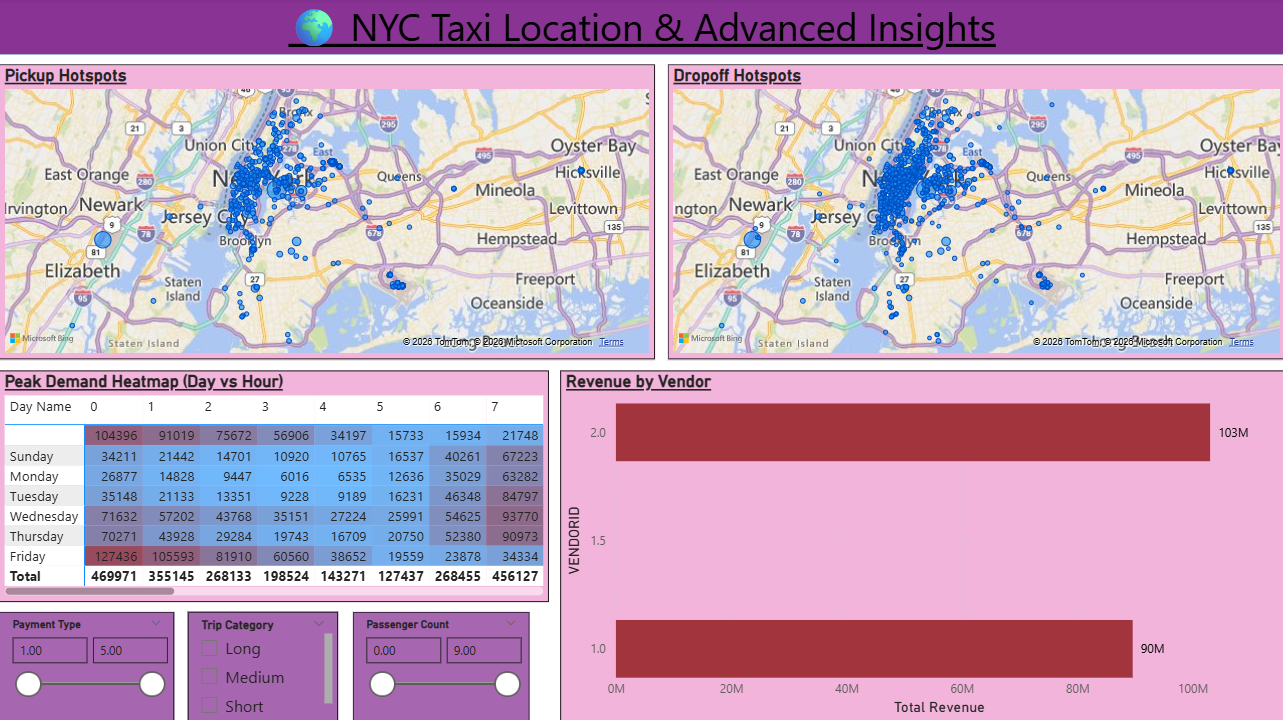

The dashboard page shown, as its layout file describes it:
{"tool":"powerbi","page":{"name":"Location & Advanced Insights","canvas":[1280,720],"ordinal":2},"visuals":[{"type":"shape","box":[0,0,1280,56],"z":0},{"type":"map","title":"Pickup Hotspots","fields":{"Y":["TAXI_DATA.PICKUP_LATITUDE"],"X":["TAXI_DATA.PICKUP_LONGITUDE"],"Size":["TAXI_DATA.Total Trips"]},"box":[0,65.9,653.2,293.7],"z":1000},{"type":"map","title":"Dropoff Hotspots","fields":{"Size":["TAXI_DATA.Total Trips"],"Y":["TAXI_DATA.DROPOFF_LATITUDE"],"X":["TAXI_DATA.DROPOFF_LONGITUDE"]},"box":[665.5,65.9,614.8,293.7],"z":2000},{"type":"pivotTable","title":"Peak Demand Heatmap (Day vs Hour)","fields":{"Rows":["TAXI_DATA.Day Name"],"Columns":["TAXI_DATA.Trip Hour"],"Values":["TAXI_DATA.Total Trips"]},"box":[0,370.5,547.5,230.5],"z":3000},{"type":"clusteredBarChart","title":"Revenue by Vendor","fields":{"Category":["TAXI_DATA.VENDORID"],"Y":["TAXI_DATA.Total Revenue"]},"box":[558.5,370.5,721.8,349.9],"z":4000},{"type":"slicer","fields":{"Values":["TAXI_DATA.PAYMENT_TYPE"]},"box":[0,610.6,174.3,109.8],"z":5000},{"type":"slicer","fields":{"Values":["TAXI_DATA.Trip Category"]},"box":[188,610.6,149.6,109.8],"z":6000},{"type":"slicer","fields":{"Values":["TAXI_DATA.PASSENGER_COUNT"]},"box":[352.7,610.6,175.6,109.8],"z":7000}]}

Visuals, with their boxes in screenshot pixels (x1, y1, x2, y2), scaled from the page's 1280x720 canvas onto the 1283x720 screenshot:
shape: BBox(0, 0, 1282, 56)
"Pickup Hotspots" map: BBox(0, 66, 655, 360)
"Dropoff Hotspots" map: BBox(667, 66, 1282, 360)
"Peak Demand Heatmap (Day vs Hour)" pivotTable: BBox(0, 370, 549, 601)
"Revenue by Vendor" clusteredBarChart: BBox(560, 370, 1282, 719)
slicer - TAXI_DATA.PAYMENT_TYPE: BBox(0, 611, 175, 719)
slicer - TAXI_DATA.Trip Category: BBox(188, 611, 338, 719)
slicer - TAXI_DATA.PASSENGER_COUNT: BBox(354, 611, 530, 719)
